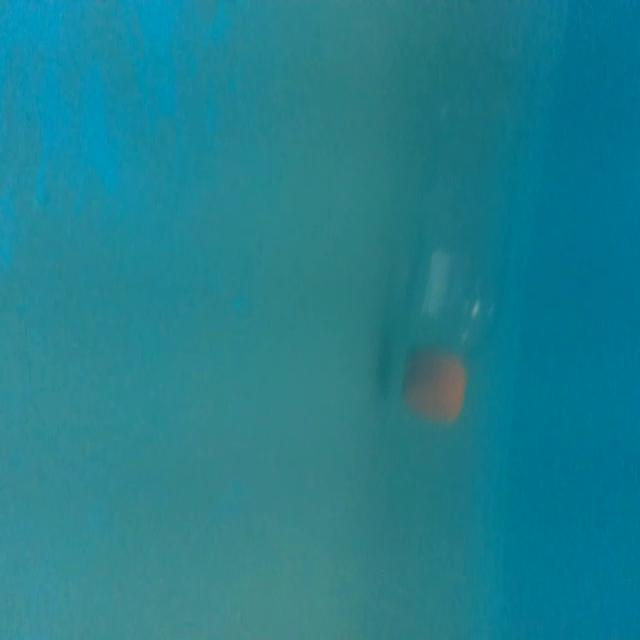plastic bottle: (396, 87, 518, 436)
